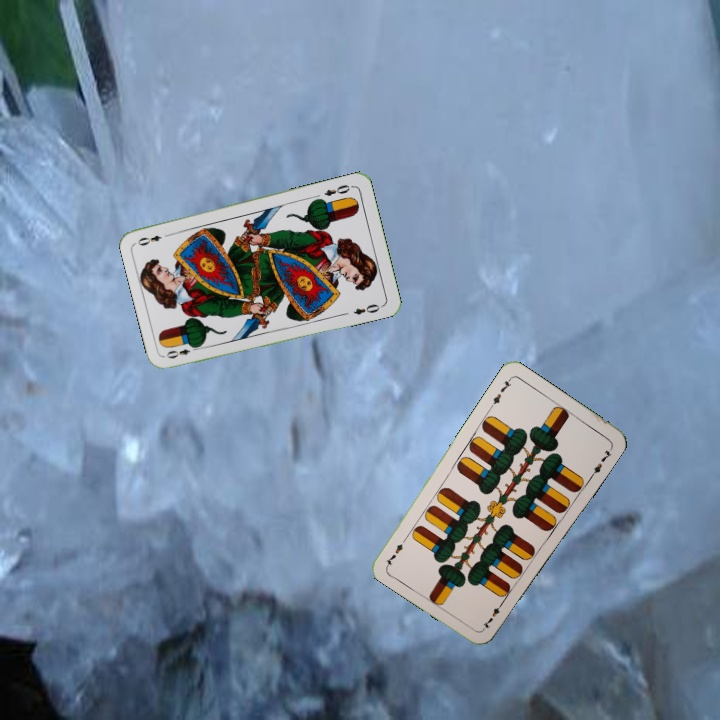E7: (479, 596, 507, 632), (487, 374, 514, 410)
EO: (162, 341, 202, 361), (320, 180, 356, 199)
